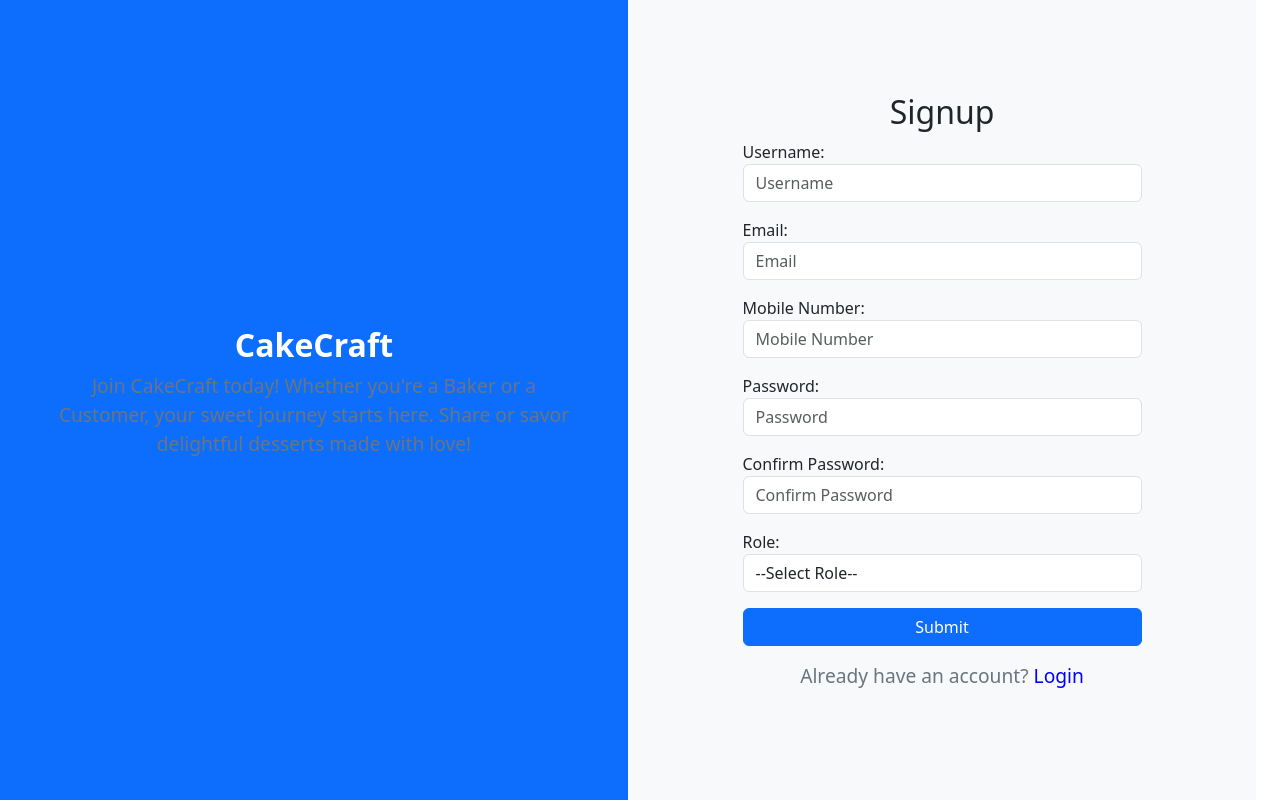
Test: Signup Component › Frontend_signup_component_displays_error_when_passwords_do_not_match
The width and height of the screenshot is (1280, 800).
Type "password123" into the password field with placeholder "Password" at (942, 417), box x1=742 y1=398 x2=1142 y2=436
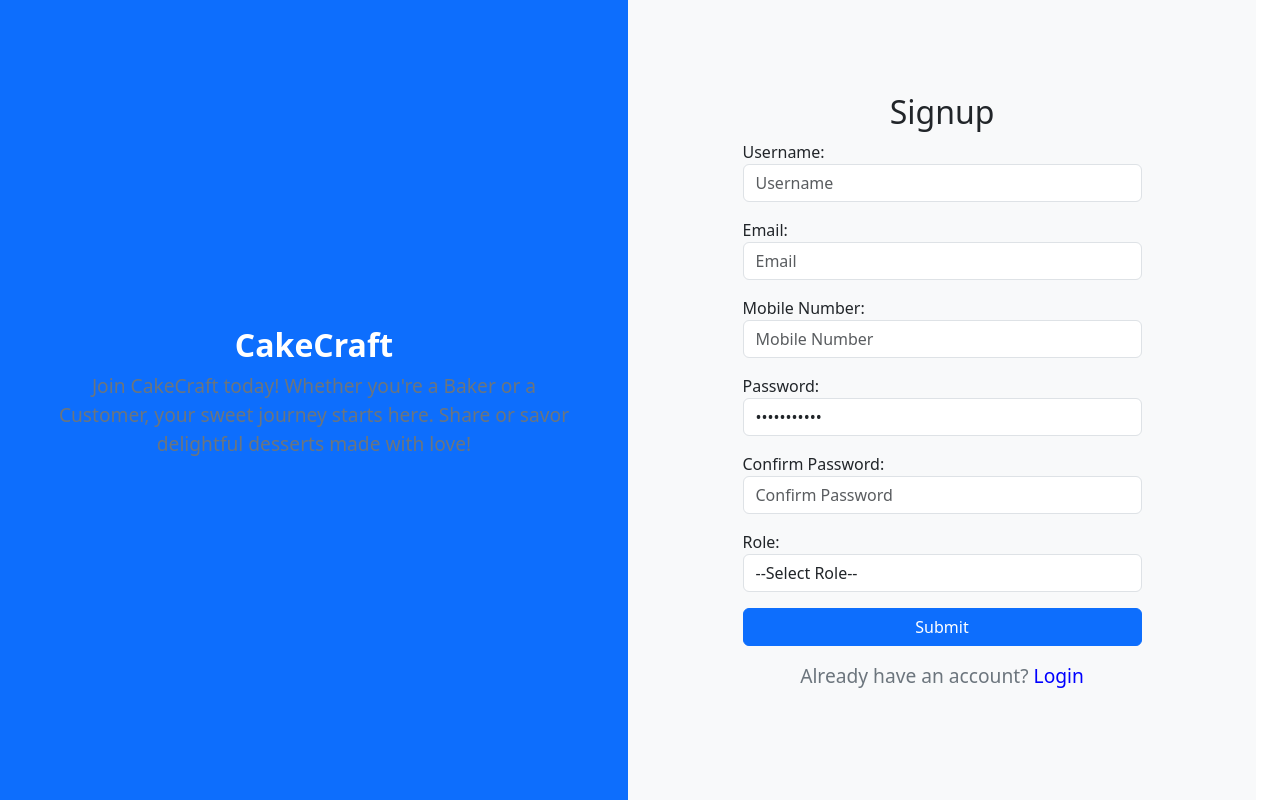
Type "password456" into the password field with placeholder "Confirm Password" at (942, 495), box x1=742 y1=476 x2=1142 y2=514
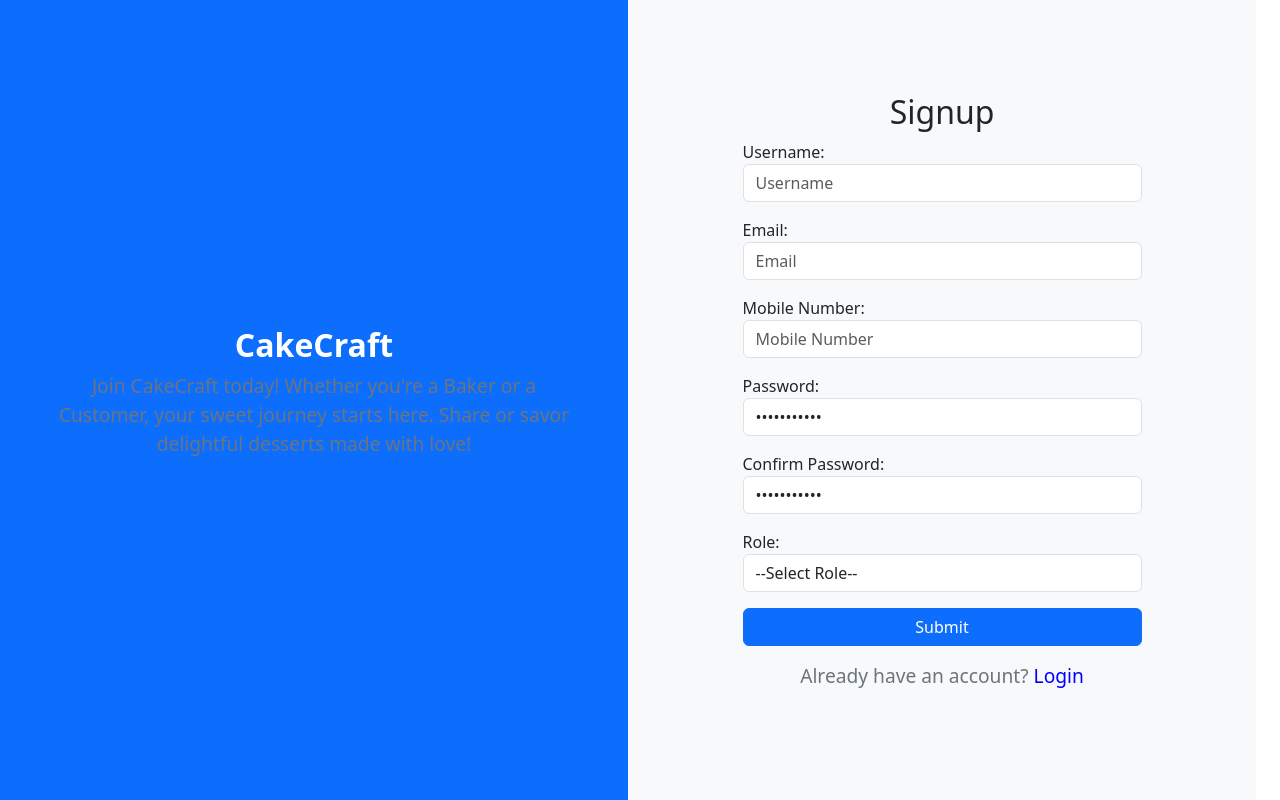
Click the button "Submit" at (942, 627), box x1=742 y1=608 x2=1142 y2=646
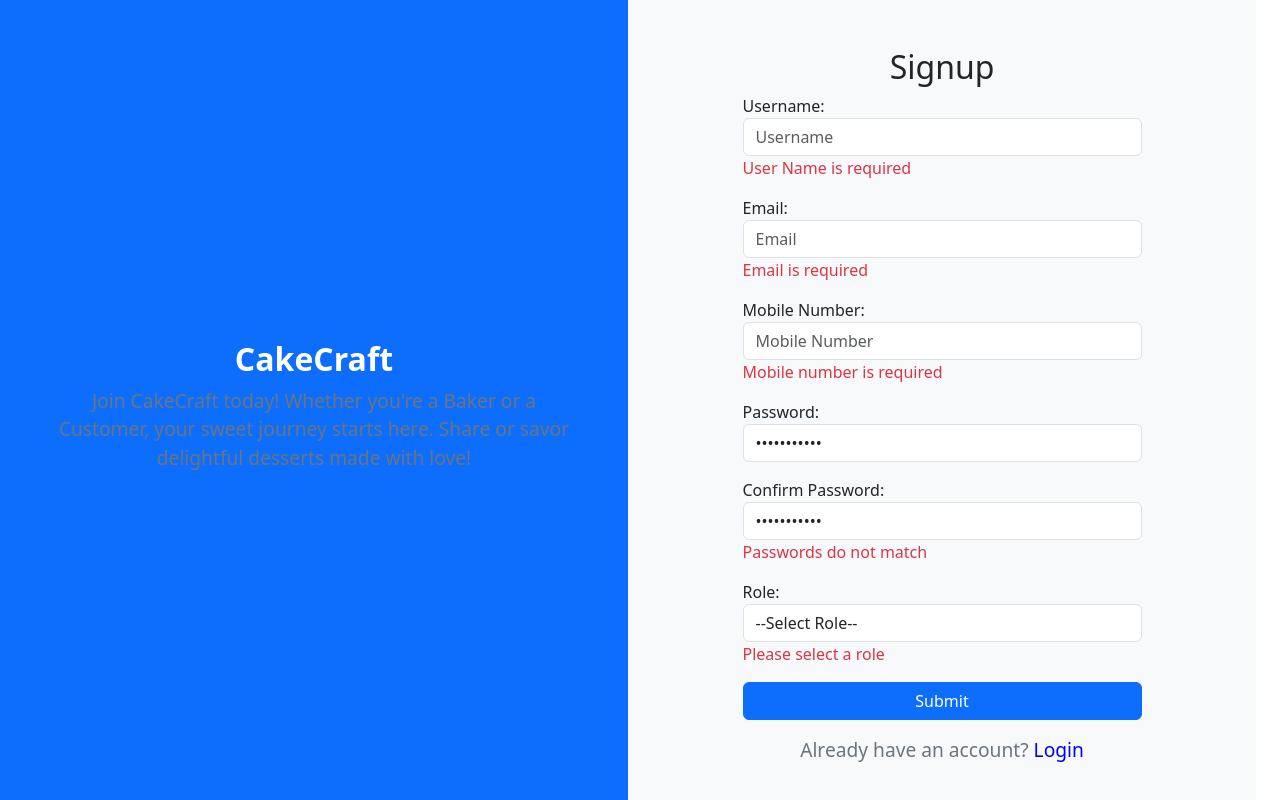
Expected: the text "Passwords do not match" is shown, x1=742 y1=541 x2=927 y2=563
